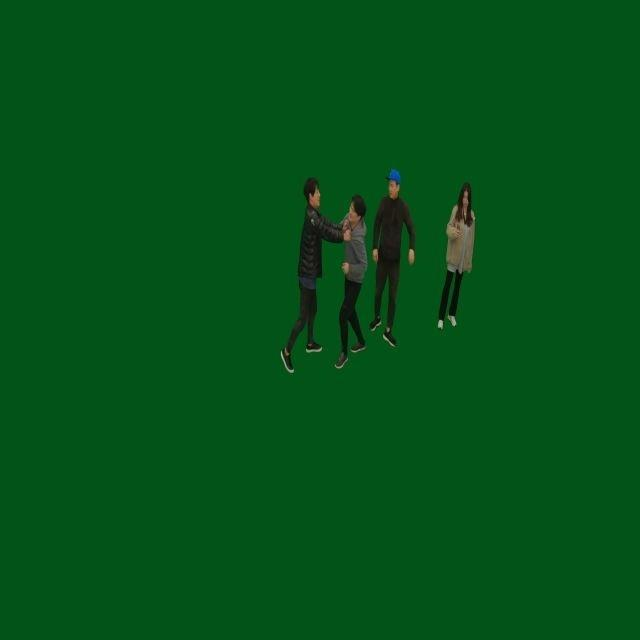fight: (278, 175, 370, 378)
non-fight: (368, 167, 414, 352), (434, 182, 478, 331)
